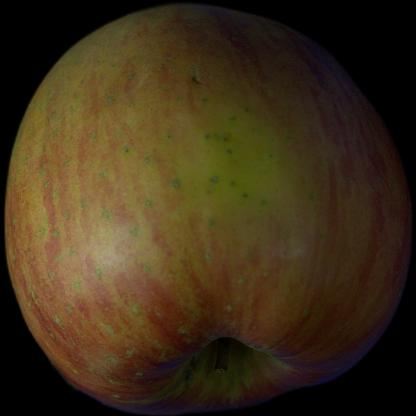defect: (157, 50, 259, 142)
